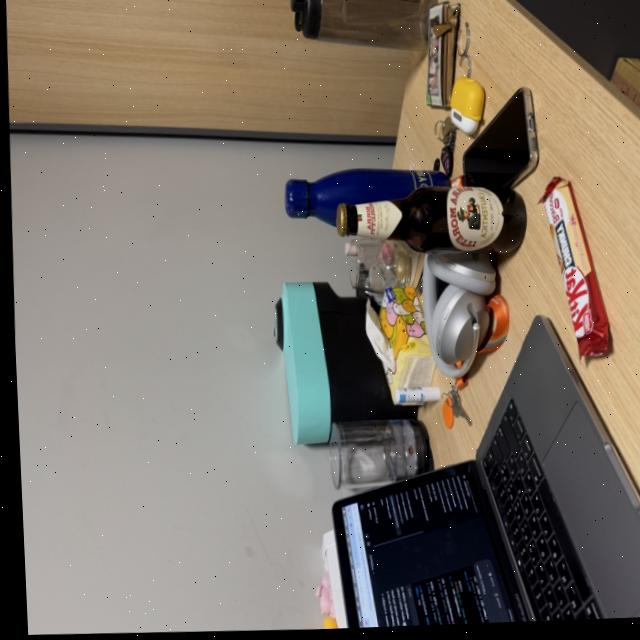beer: (327, 173, 530, 272)
chocolate: (535, 176, 614, 371)
